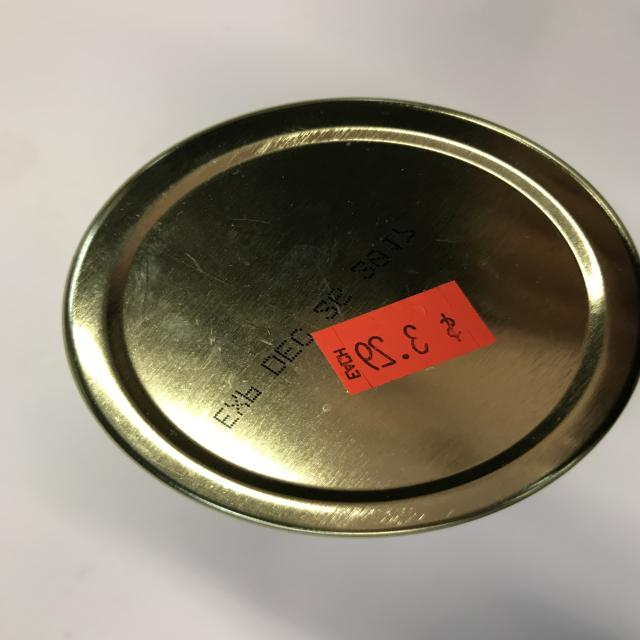glass: (62, 96, 640, 538)
